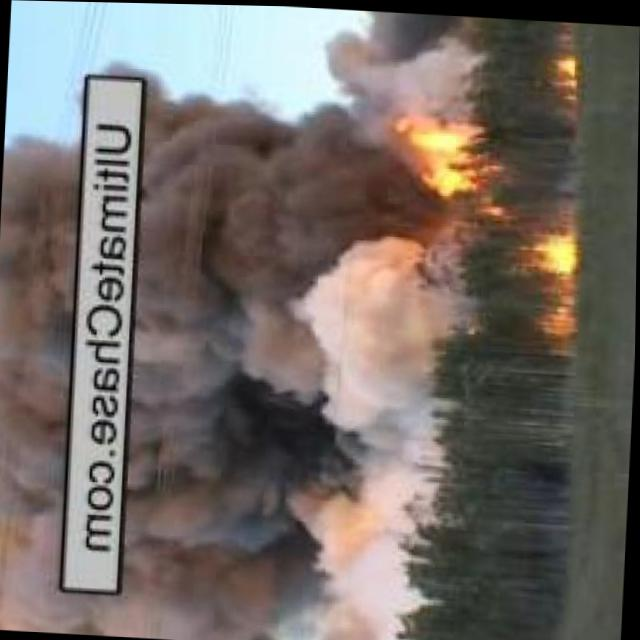Fire: (378, 104, 501, 202), (526, 230, 574, 275), (533, 288, 577, 332), (546, 50, 583, 89)
